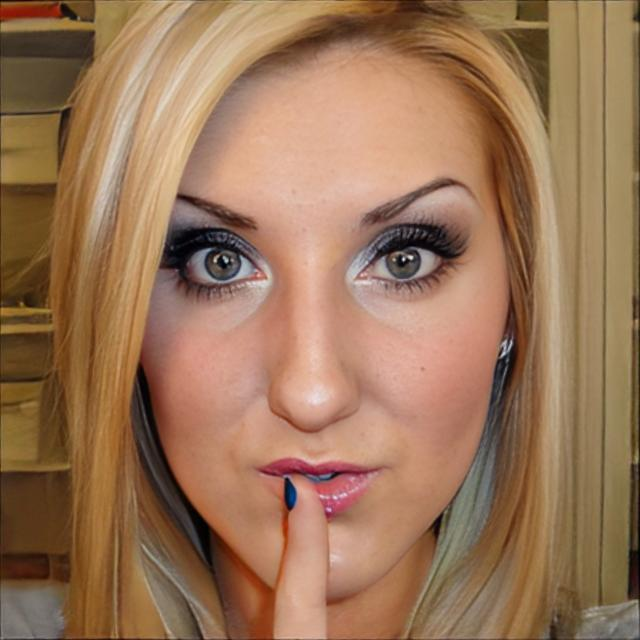surprise: (136, 44, 508, 596)
